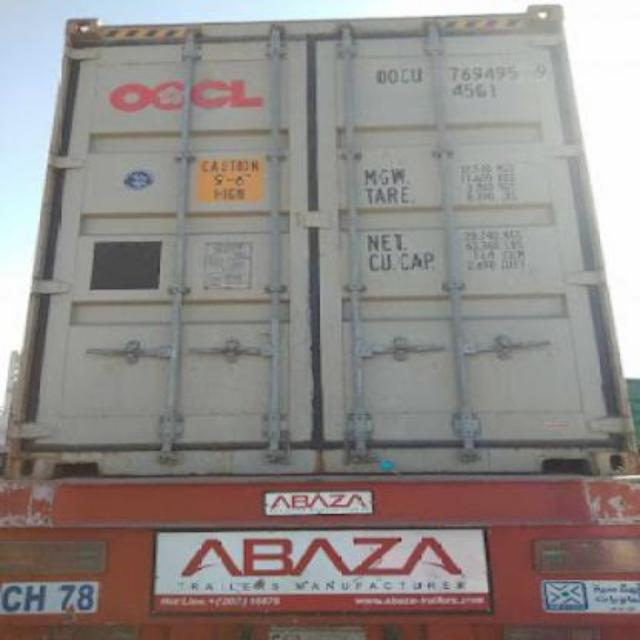4: (484, 62, 496, 84)
5: (506, 63, 518, 81)
6: (460, 65, 470, 81)
7: (444, 65, 460, 81)
9: (536, 62, 546, 82), (472, 66, 484, 82), (496, 64, 506, 82)
C: (400, 66, 408, 84)
D: (388, 66, 400, 82)
O: (374, 70, 388, 84)
U: (410, 67, 420, 83)
